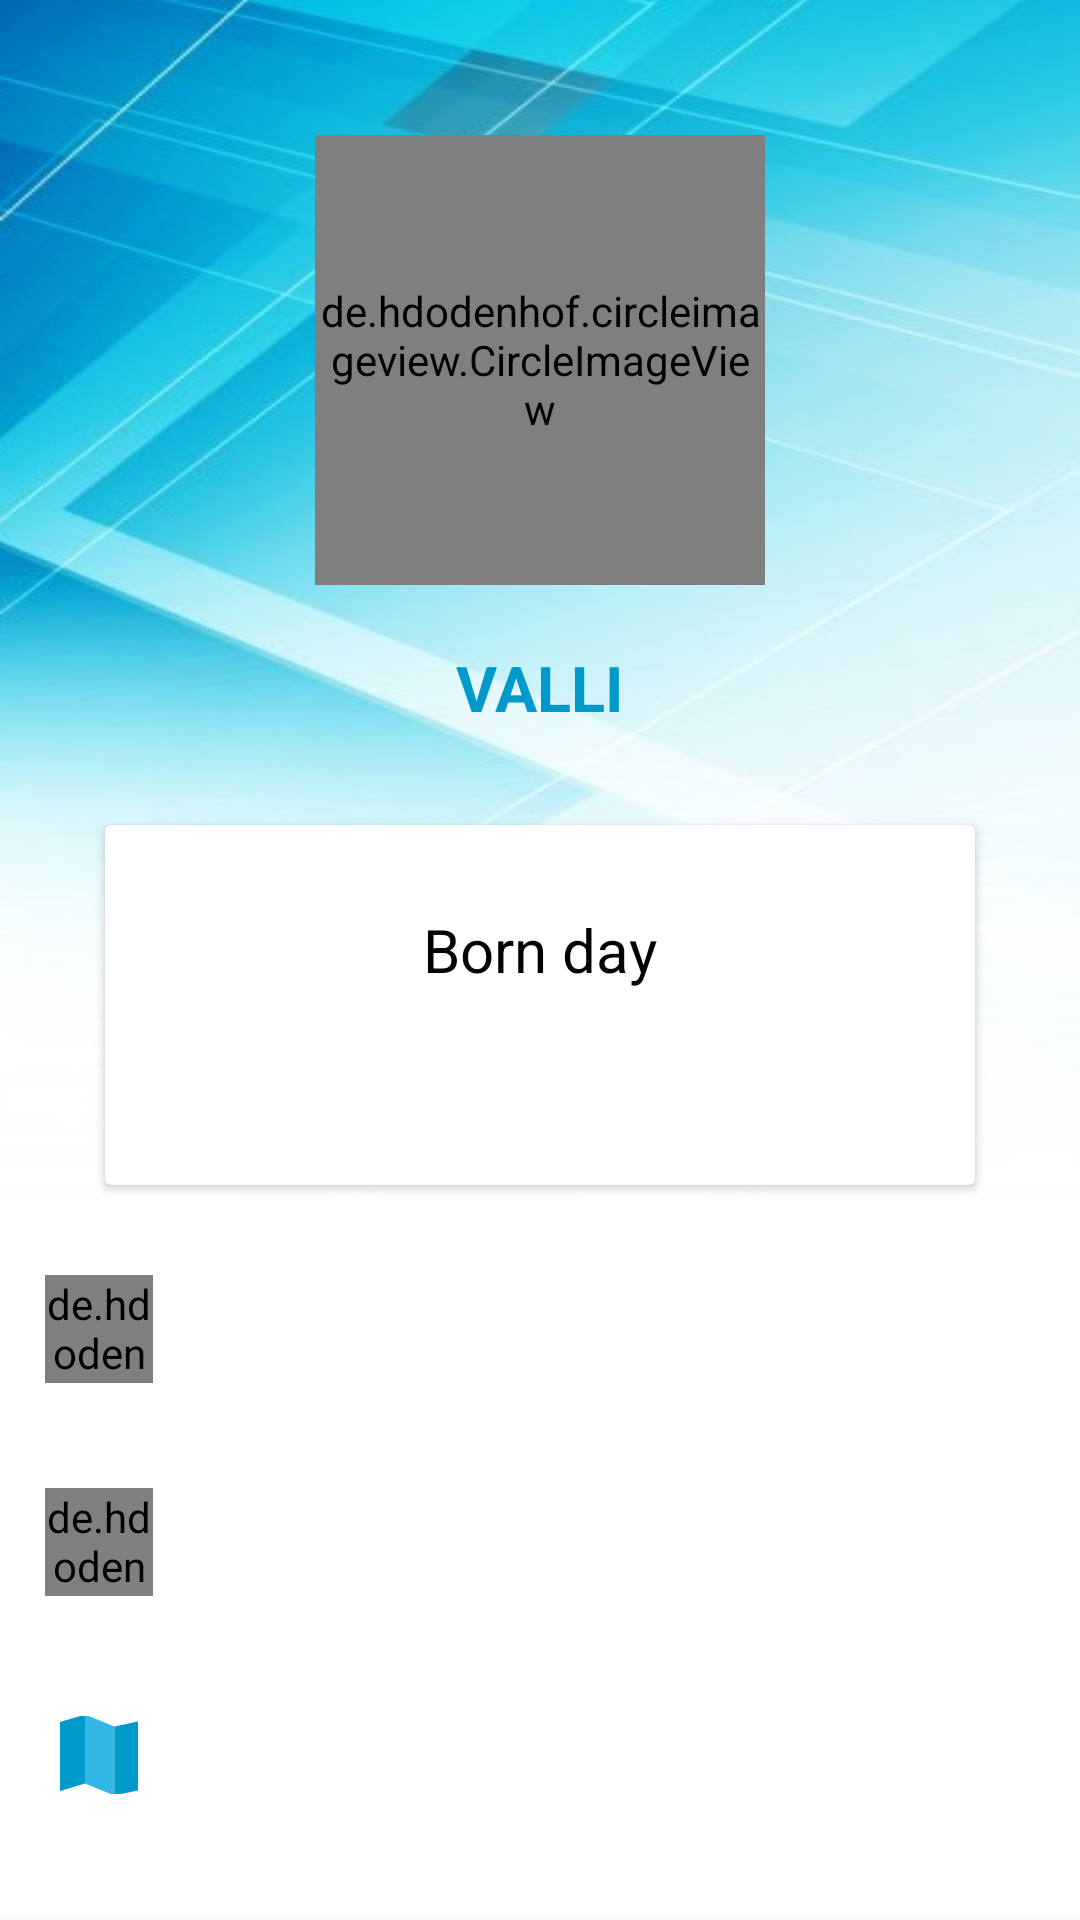

Screen size 1080*1920. Icon name, then its box in pixels as bbox=[x1, y1, x2, y2]:
map: bbox=[60, 1716, 138, 1794]
